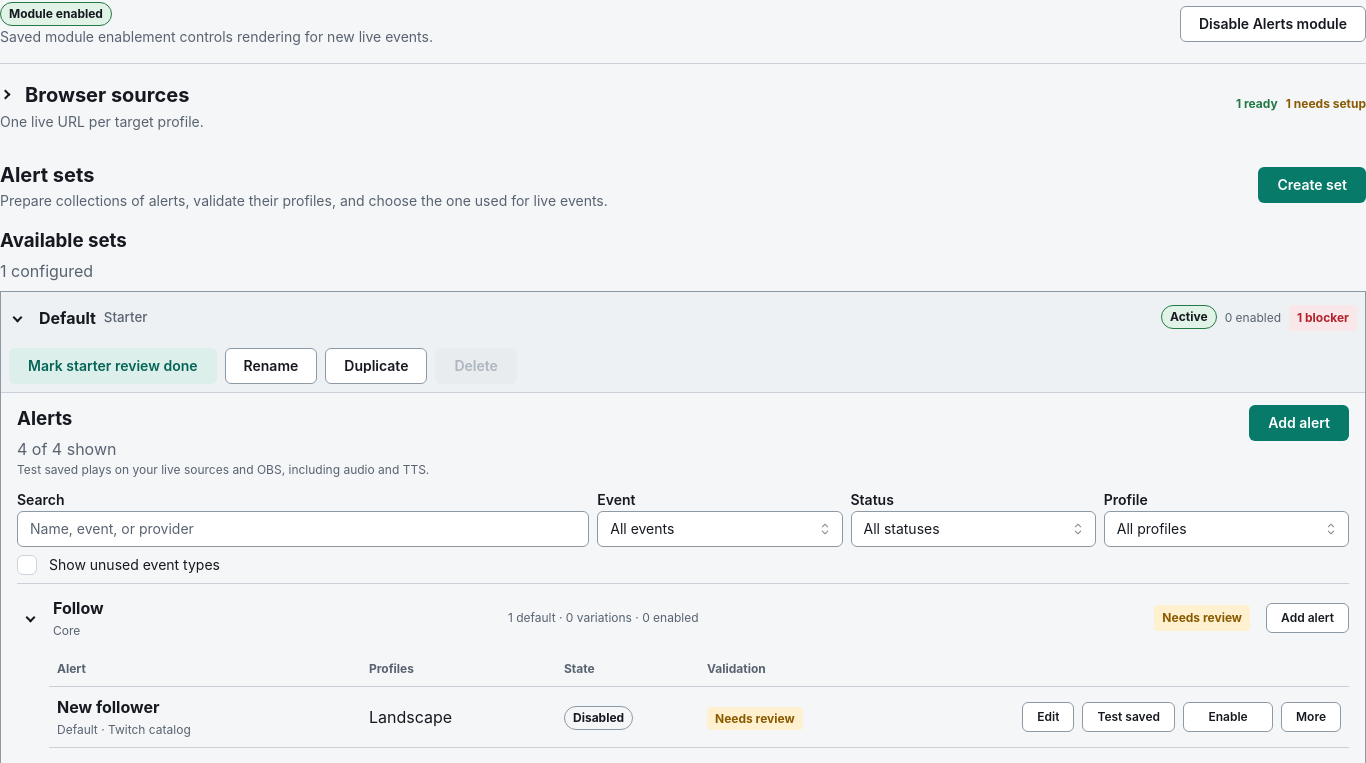
Test case: AlertSetsPage › keeps browser sources outside alert-set management and collapses its details by default
Expected: the text "1 ready" is shown, 1236,95 -> 1278,113
Expected: the text "1 needs setup" is shown, 1286,95 -> 1365,113
Click the button with aria-label "Expand browser sources" at x=95, y=94, box 0,78 -> 189,110
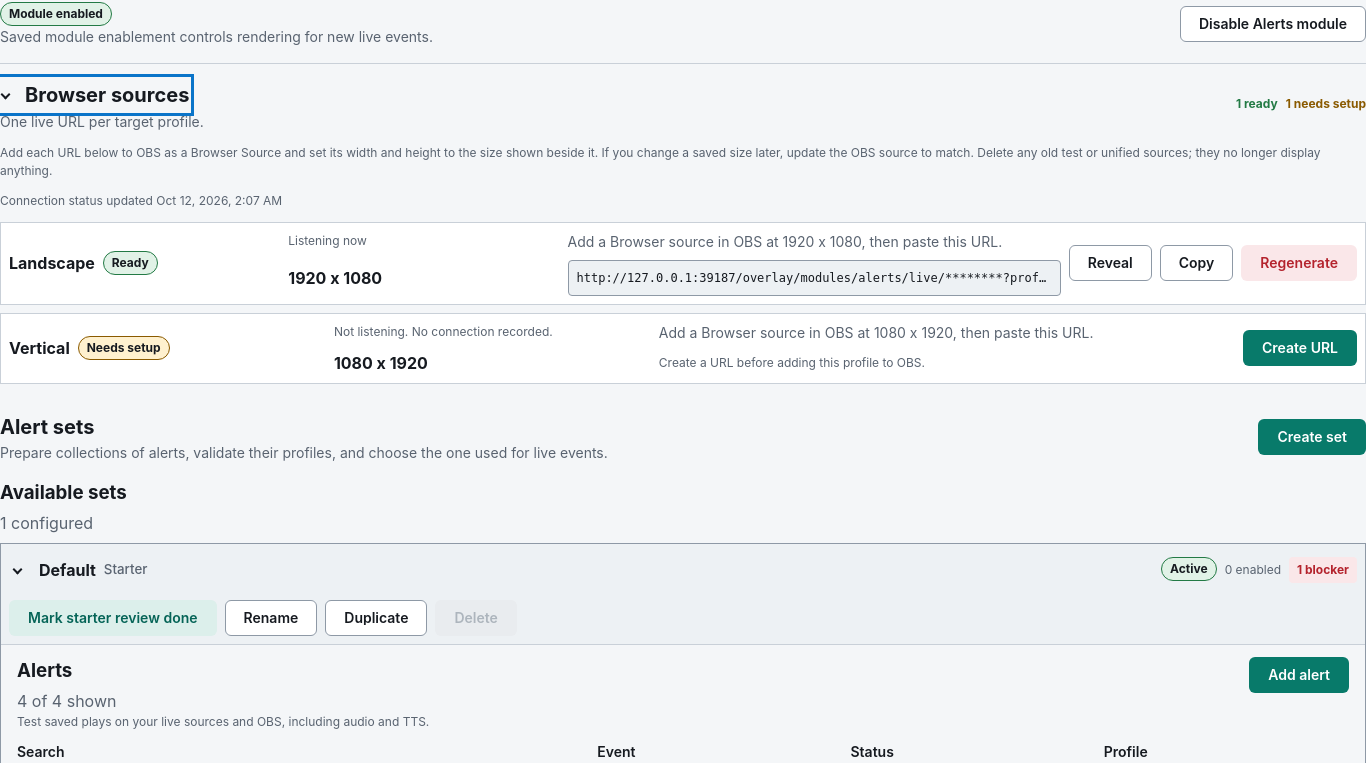
Expected: the button with aria-label "Rename Default" is shown, 224,600 -> 317,636
Expected: the button with aria-label "Collapse browser sources" is expanded, 0,78 -> 189,110
Expected: the element named "Landscape browser source" is shown, 0,222 -> 1365,304
Click the button with aria-label "Collapse Default" at x=67, y=570, box 9,552 -> 1149,588
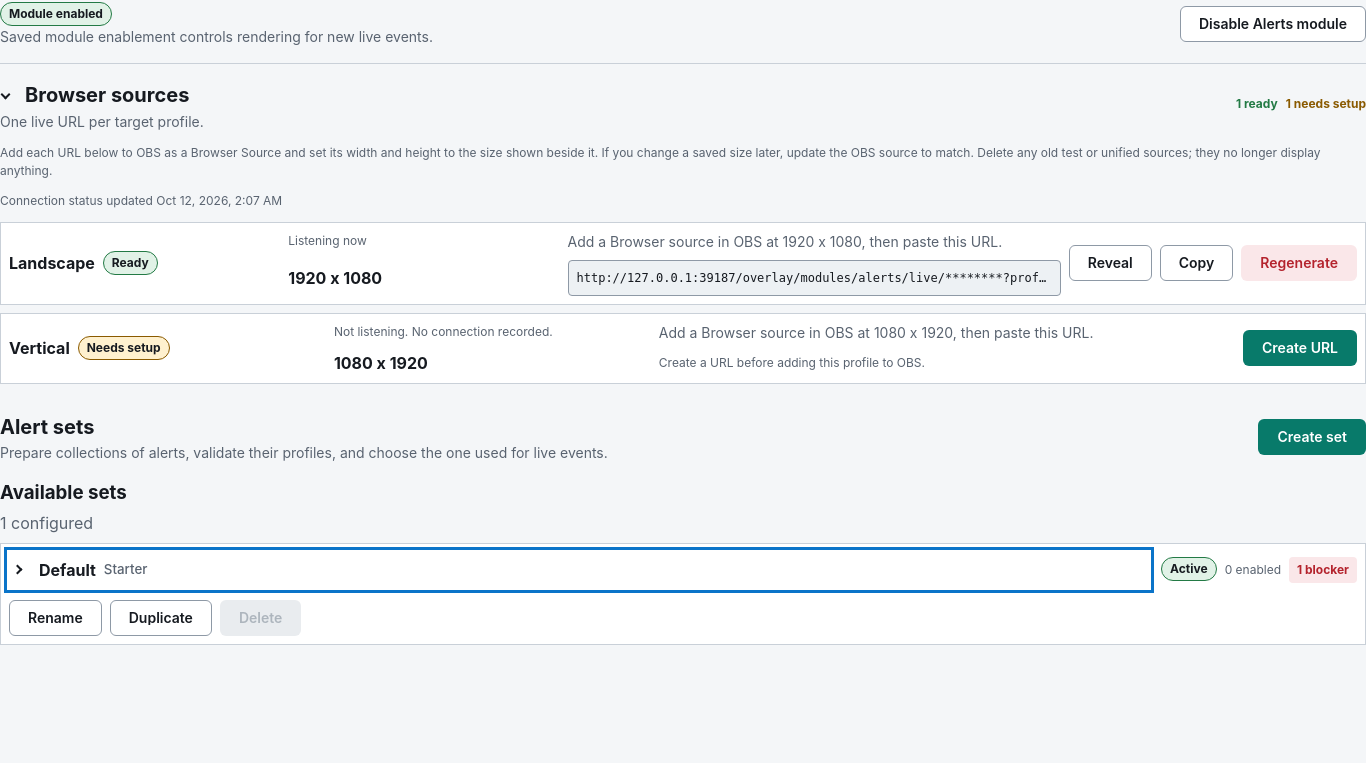
Expected: the text "1 blocker" is shown, 1289,557 -> 1357,583
Expected: the button with aria-label "Expand Default" is collapsed, 9,552 -> 1149,588
